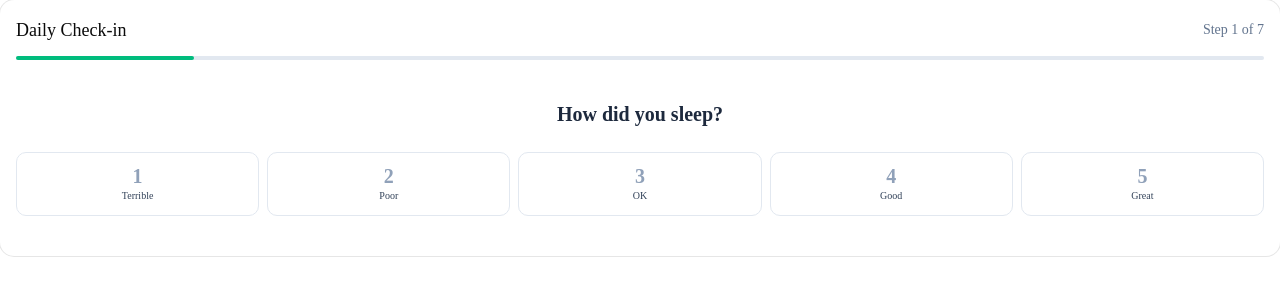
ReadinessForm — navigation › goes back to previous step when back is clicked
Click the button with aria-label " 4 —". click: (891, 184)
box: [770,152,1013,216]
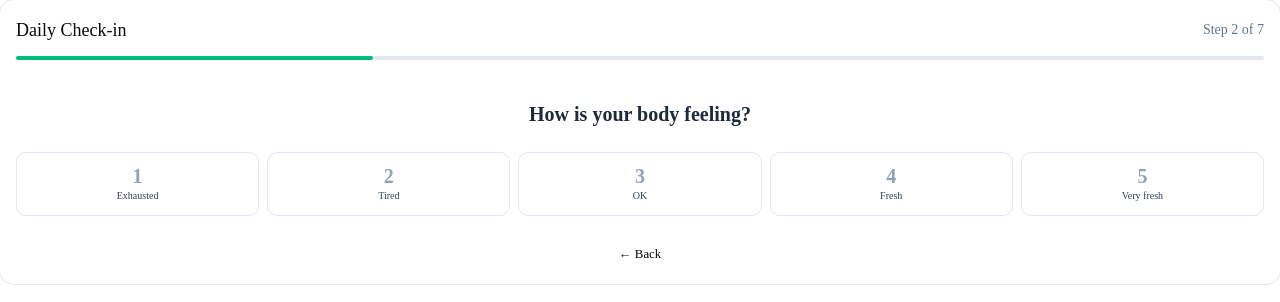
Check: the text "How is your body feeling?" is shown, box [529,103,751,125]
Click the button "← Back". click: (640, 254)
box: [16,240,1264,268]
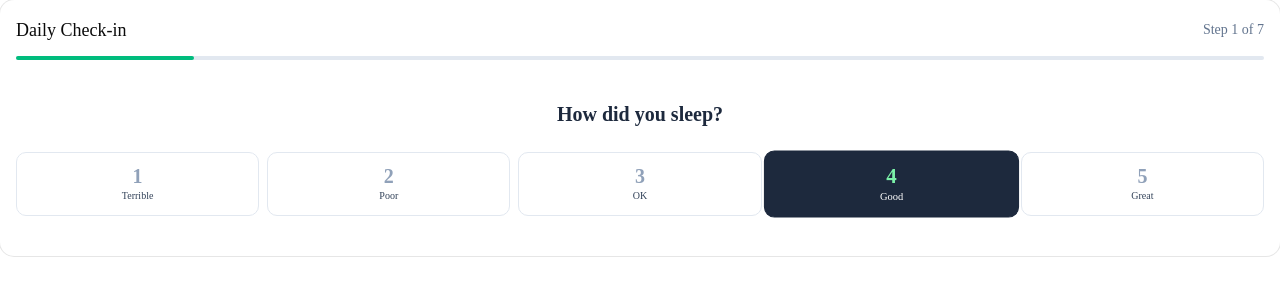
Check: the text "How did you sleep?" is shown, box [557,103,723,125]
